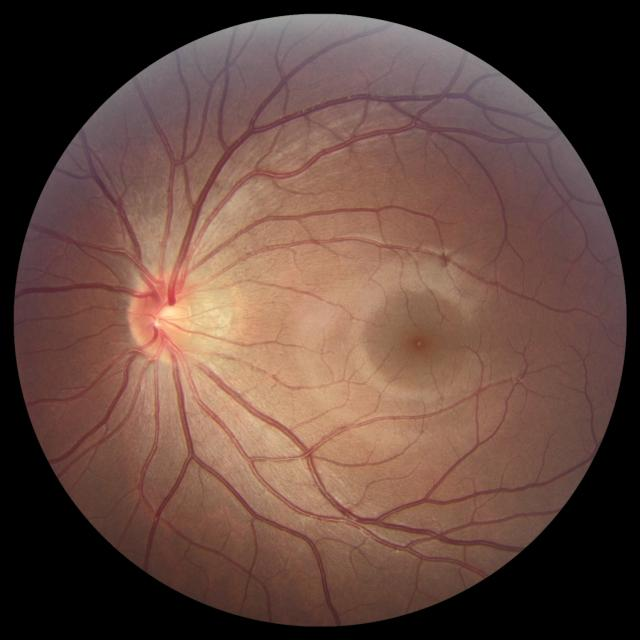OC: (152, 302, 184, 335)
OD: (127, 272, 191, 360)
